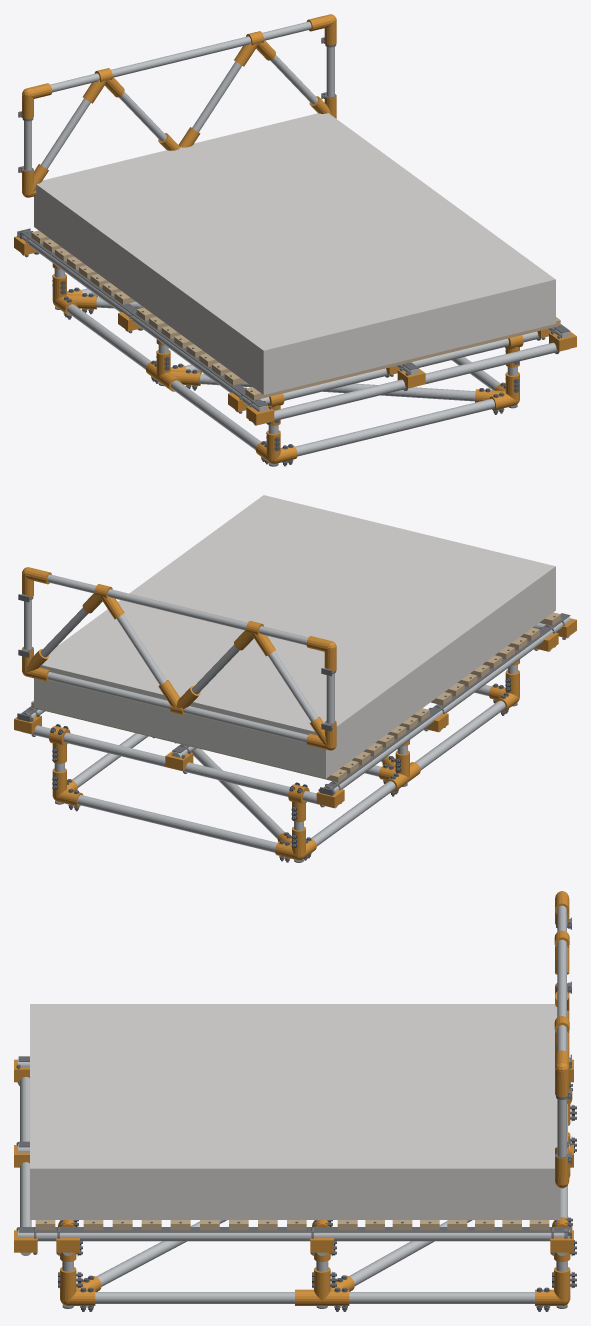
The model's file is cama_montada.glb.
The picture shows the model from 3 angles, top to bottom: view 1: azimuth 30°, elevation 25°; view 2: azimuth 150°, elevation 25°; view 3: azimuth 270°, elevation 25°; orthographic projection. The views are drawn at different scales.
Parts seen in each view (by area): view 1: colchao, gd_95, bc_80, hr_100, gd_80, lg_-72, bd_1, rp_16, fe_-72, bl_-1_-10, bl_-1_-95, no_-1_1_up (+9 smaller); view 2: colchao, gd_-95, bc_-95, hr_56, hr_100, lg_-72, fe_-72, bl_-1_-10, bd_0, bl_-1_-95, no_-1_1_up, bl_1_-95 (+15 smaller); view 3: colchao, lg_72, bl_1_-10, fe_72, bl_1_-95, gd_95, hr_100, no_1_1_up, bd_1, bd_0, no_1_2_up, no_1_0_up (+2 smaller).
Part boxes in pixels (<box>): colchao: <box>34,113,555,394</box>; gd_95: <box>253,342,569,425</box>; bc_80: <box>295,398,494,456</box>; hr_100: <box>50,21,311,92</box>; gd_80: <box>235,331,548,412</box>; lg_-72: <box>22,235,267,411</box>; bd_1: <box>200,373,475,401</box>; rp_16: <box>245,317,560,399</box>; fe_-72: <box>20,230,267,407</box>; bl_-1_-10: <box>171,380,261,449</box>; bl_-1_-95: <box>67,304,151,369</box>; no_-1_1_up: <box>145,350,201,386</box>; colchao: <box>34,495,555,778</box>; gd_-95: <box>21,725,337,808</box>; bc_-95: <box>77,795,277,852</box>; hr_56: <box>47,672,308,742</box>; hr_100: <box>47,574,308,645</box>; lg_-72: <box>334,616,570,791</box>; fe_-72: <box>323,613,570,789</box>; bl_-1_-10: <box>415,700,505,770</box>; bd_0: <box>191,748,284,839</box>; bl_-1_-95: <box>311,781,395,846</box>; no_-1_1_up: <box>379,750,420,787</box>; bl_1_-95: <box>72,733,147,787</box>; colchao: <box>30,1004,560,1219</box>; lg_72: <box>18,1229,569,1241</box>; bl_1_-10: <box>95,1292,294,1303</box>; fe_72: <box>18,1227,569,1232</box>; bl_1_-95: <box>349,1292,534,1303</box>; gd_95: <box>20,1077,31,1255</box>; hr_100: <box>557,905,566,1051</box>; no_1_1_up: <box>295,1267,354,1301</box>; bd_1: <box>96,1220,226,1286</box>; bd_0: <box>349,1220,472,1285</box>; no_1_2_up: <box>60,1267,101,1301</box>; no_1_0_up: <box>535,1267,570,1301</box>.
Size of the model in its own units: 151 by 105 by 199.
